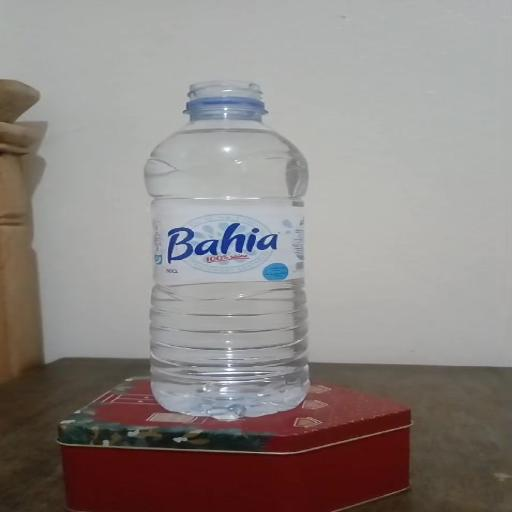bouteille non conformite: (100, 48, 374, 414), (150, 69, 307, 126)
